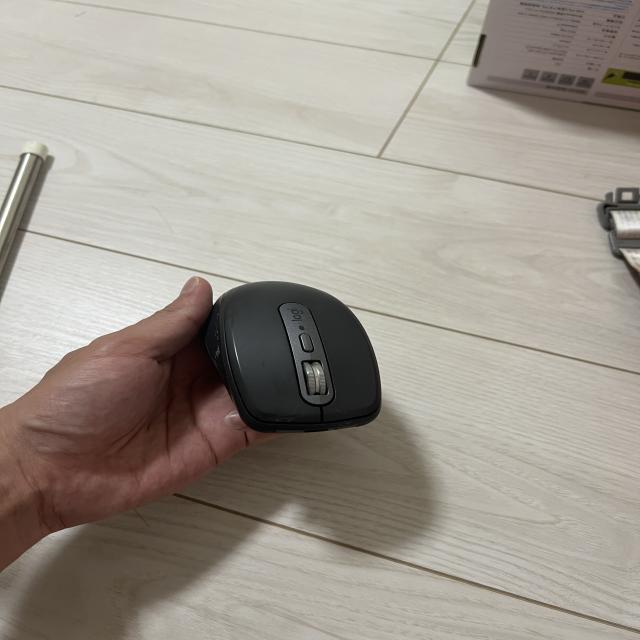mouse: (216, 282, 388, 434)
